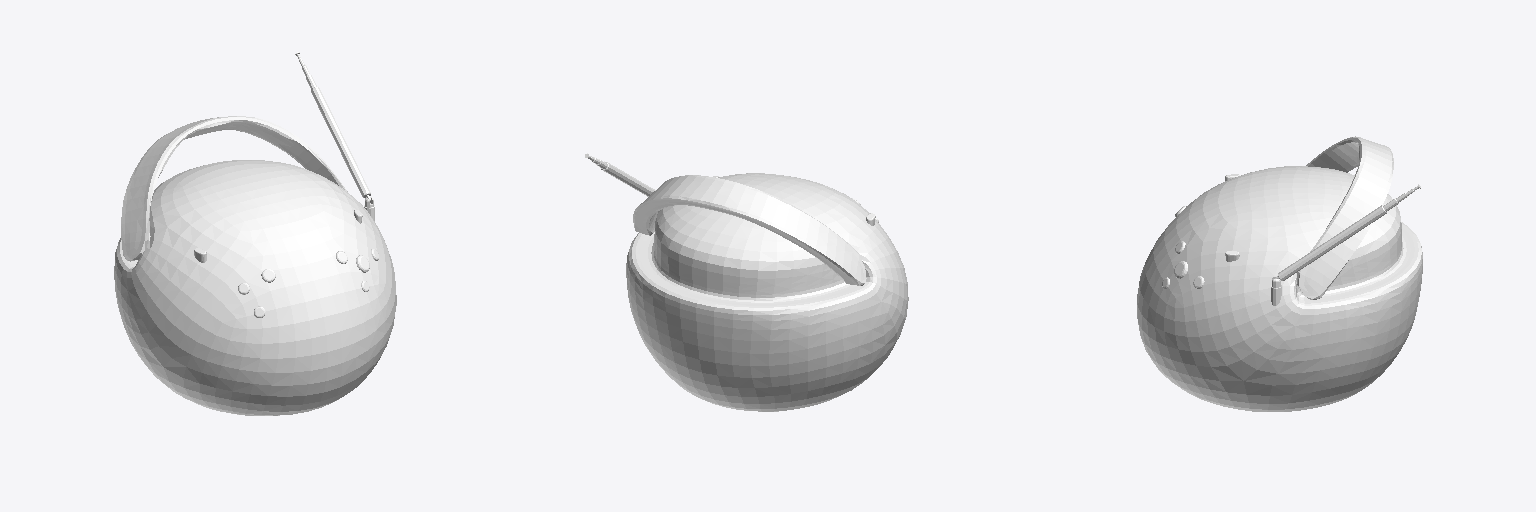
The model's file is BoomBox.obj.
3 views of the same model, side by side, from view 1: azimuth 30°, elevation 25°; view 2: azimuth 150°, elevation 25°; view 3: azimuth 270°, elevation 25° (orthographic).
Visible parts, largest first — view 1: BoomBox; view 2: BoomBox; view 3: BoomBox.
Boxes of the visible parts, x1,y1,x2,y2 form: BoomBox: [114, 52, 396, 415]; BoomBox: [585, 153, 908, 411]; BoomBox: [1137, 136, 1422, 411].
Bounding box in the file's own units: 0.0198 × 0.0195 × 0.0202.